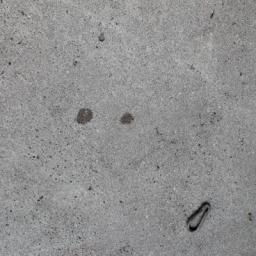FOD: (183, 199, 216, 236)
